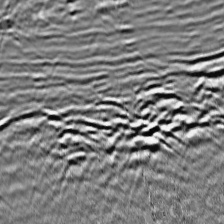cavities: (1, 76, 224, 163)
